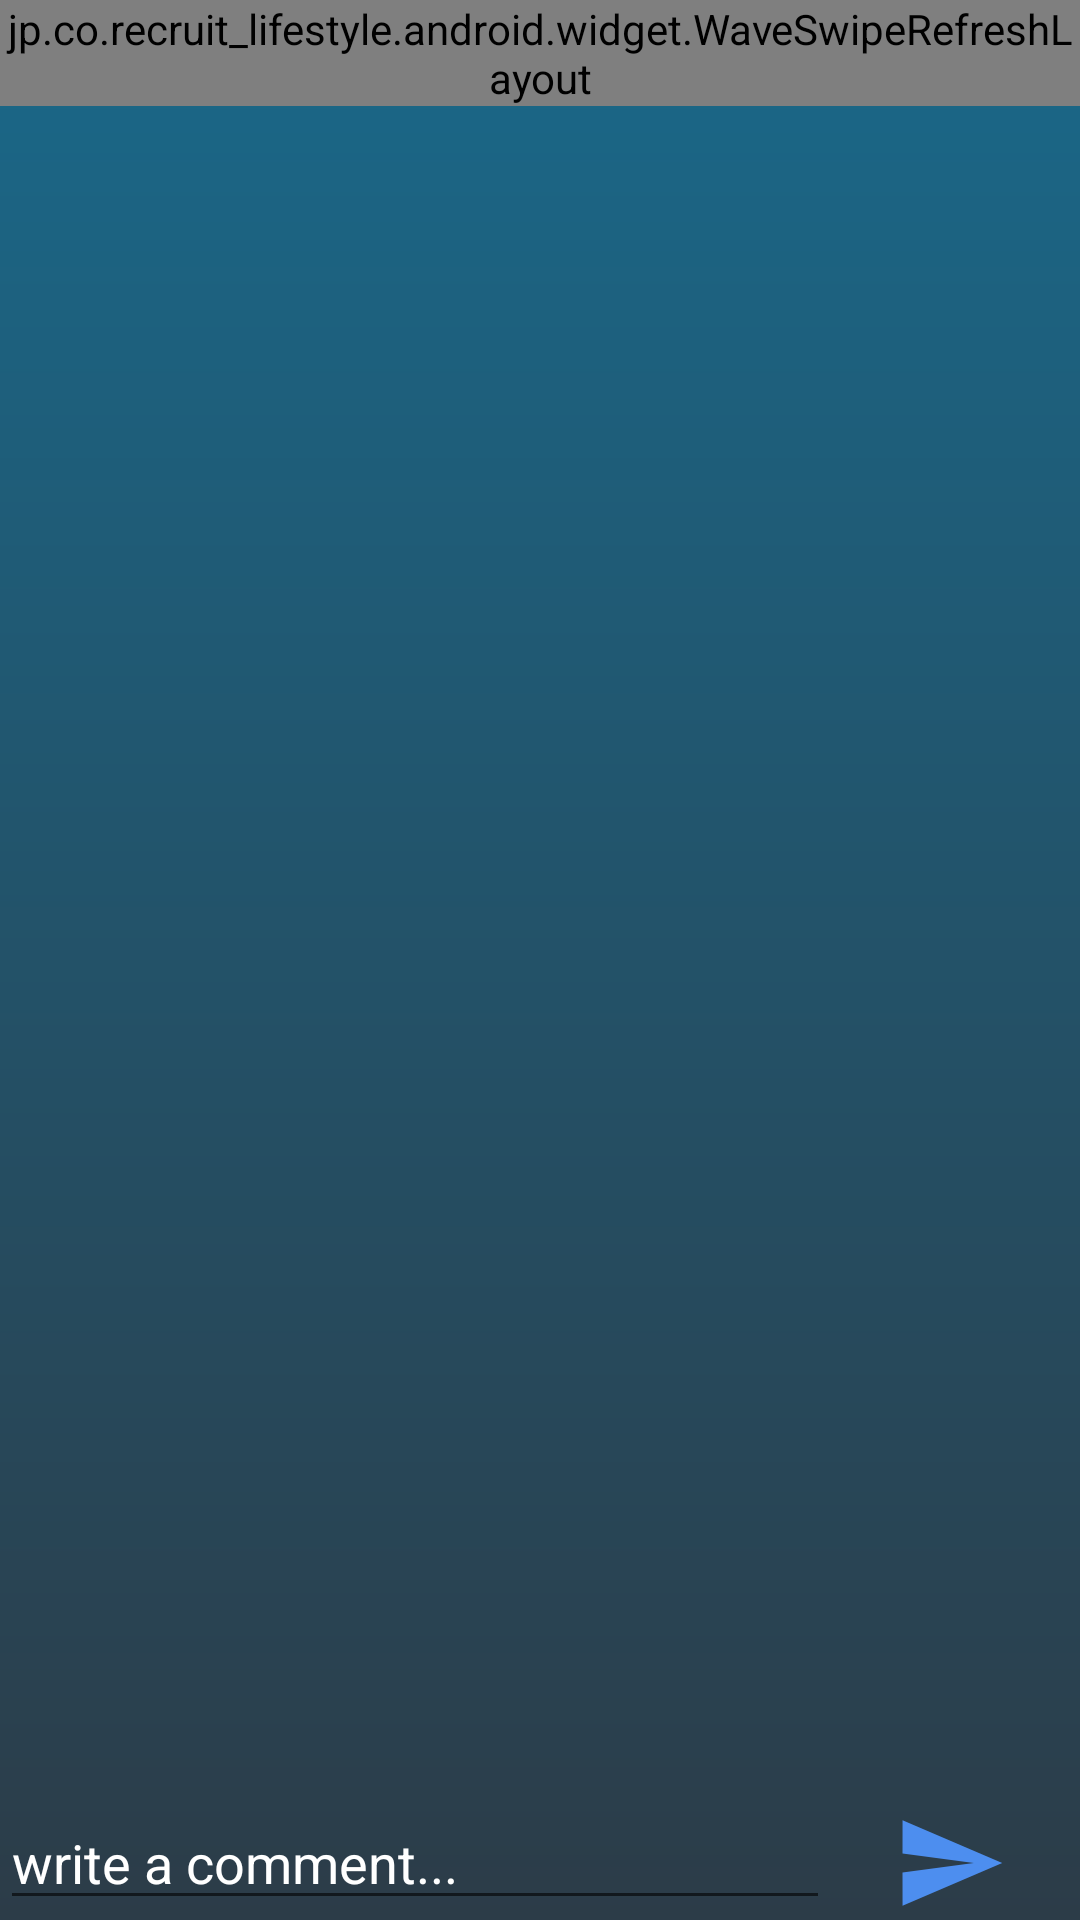

Icons on this 1080px x 1920px Android screen, each with the point to tap as [x,y]:
send: [952,1863]
